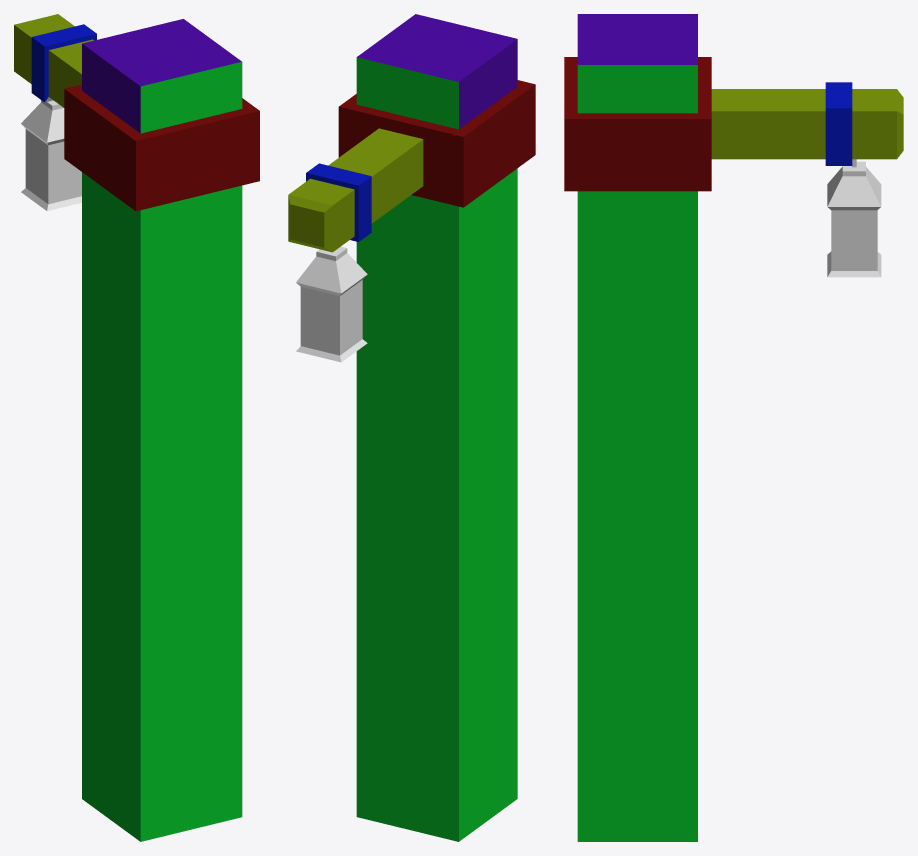
The model's file is ModelTavernLokiArchitecturePillar.FBX.
3 views of the same model, side by side, from view 1: azimuth 30°, elevation 25°; view 2: azimuth 150°, elevation 25°; view 3: azimuth 270°, elevation 25° (orthographic). The views are drawn at different scales.
Parts seen in each view (by area): view 1: Pillier, Lanterne; view 2: Pillier, Lanterne; view 3: Pillier, Lanterne.
Boxes of the visible parts, <box> form: Pillier: <box>14,14,259,841</box>; Lanterne: <box>21,100,81,210</box>; Pillier: <box>288,14,535,841</box>; Lanterne: <box>296,246,367,362</box>; Pillier: <box>564,14,903,841</box>; Lanterne: <box>827,159,881,277</box>.
Bounding box in the file's own units: 55 × 320 × 127.
